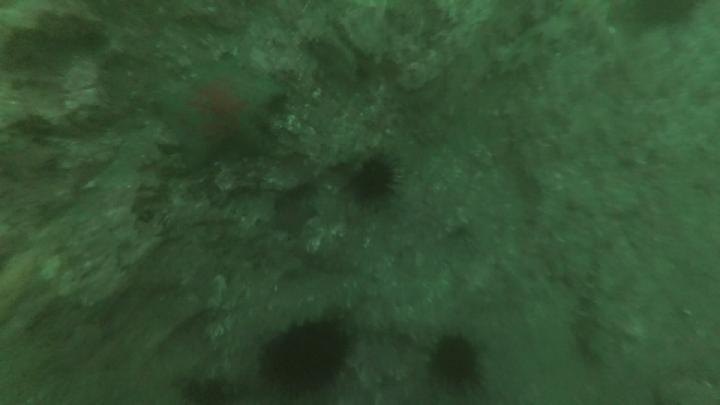echinus: (262, 319, 347, 396), (432, 335, 479, 385), (348, 157, 396, 205)
holothurian: (578, 261, 618, 366)
starfish: (154, 59, 282, 166), (271, 196, 315, 236)
